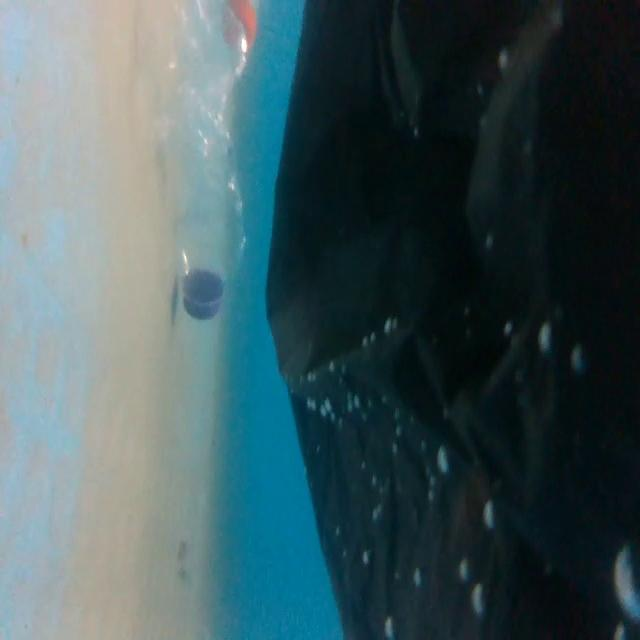plastic bags: (271, 0, 640, 632)
plastic bottle: (137, 3, 250, 326)
